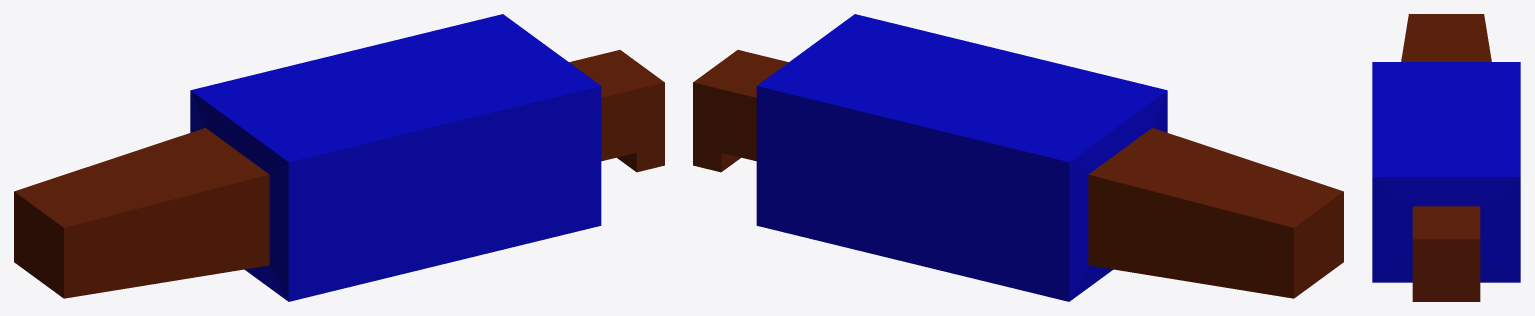
The model's file is hand.obj.
3 renders of one model, left to right at view 1: azimuth 30°, elevation 25°; view 2: azimuth 150°, elevation 25°; view 3: azimuth 270°, elevation 25°, orthographic. The views are drawn at different scales.
Parts seen in each view (by area): view 1: hand; view 2: hand; view 3: hand.
Part boxes in pixels (left/top/right/bottom): hand: left=14, top=14, right=664, bottom=301; hand: left=693, top=14, right=1343, bottom=301; hand: left=1372, top=14, right=1520, bottom=301.
Size of the model in its own units: 0.2455 by 0.0543 by 0.0693.
